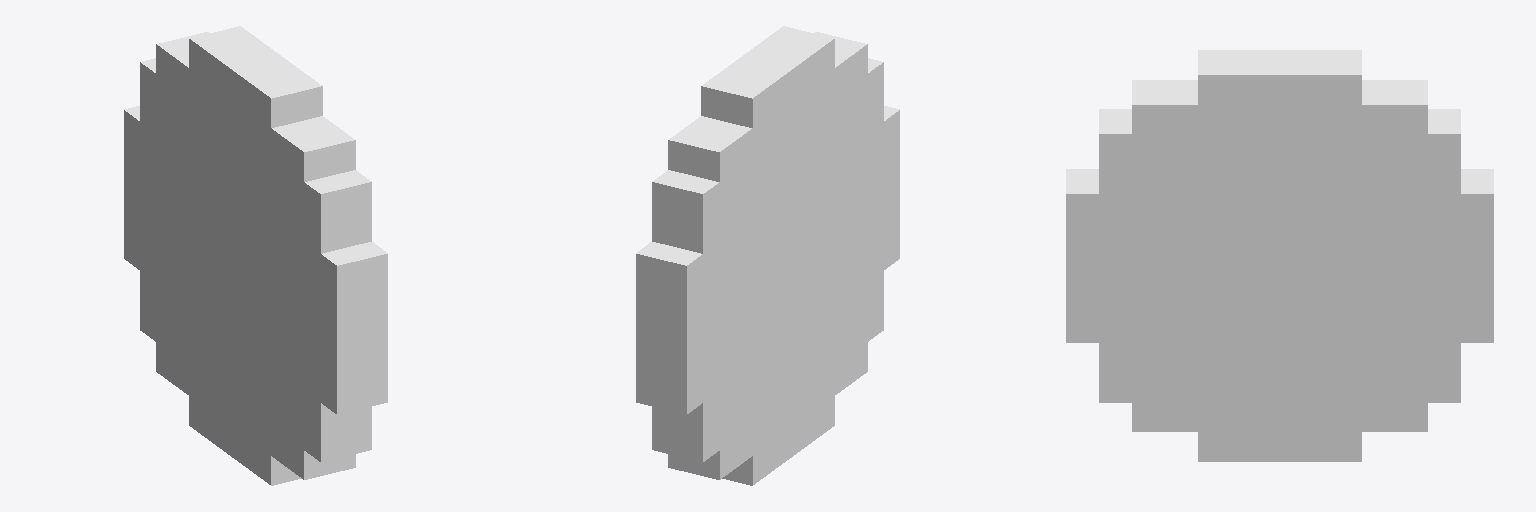
The model's file is WheelEndCap.obj.
3 views of the same model, side by side, from view 1: azimuth 30°, elevation 25°; view 2: azimuth 150°, elevation 25°; view 3: azimuth 270°, elevation 25° (orthographic).
Size of the model in its own units: 9 by 65 by 65.